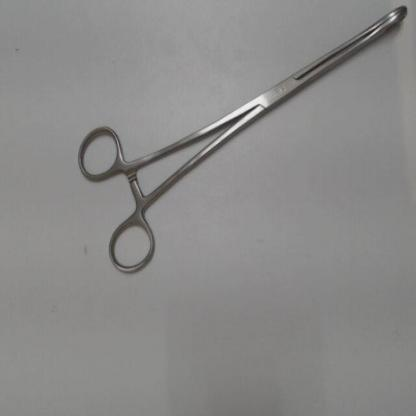Sponge Forceps: (71, 0, 415, 283)
